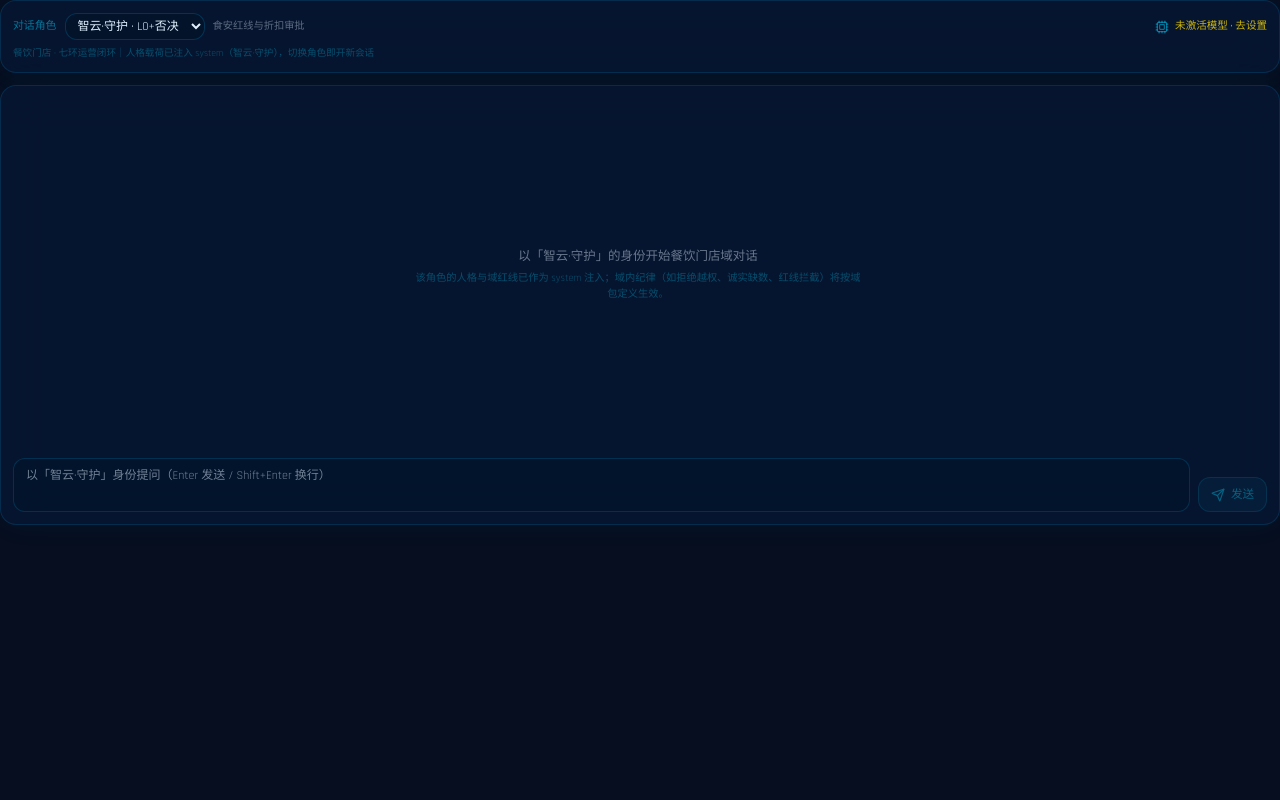
it: DomainChatPanel · 域内对话(Phase 1) › 4. 未激活模型：给出设置引导，不发起调用
Type "你好" into the text box named "对话输入".
click(602, 485); type("你好")  # box [13,458,1190,512]
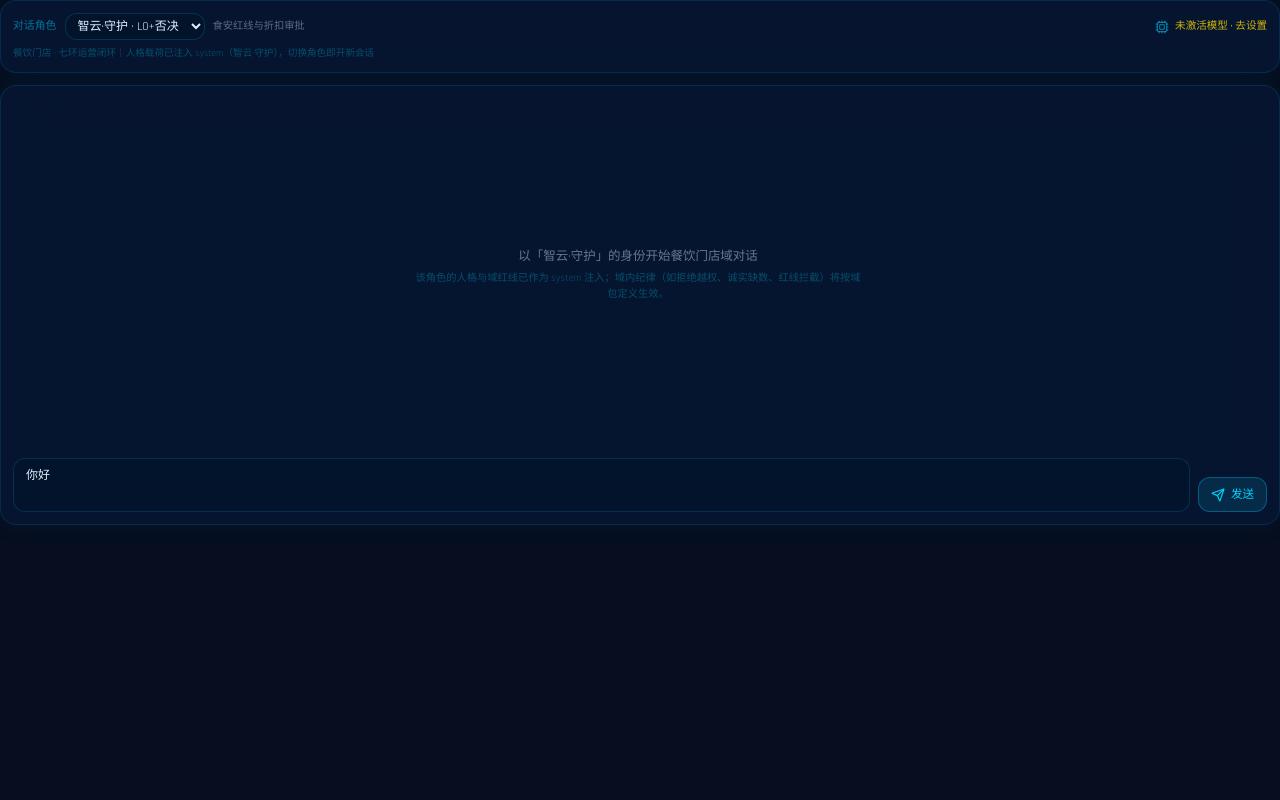
Click the button "发送".
click(1232, 495)  # box [1198,477,1267,512]
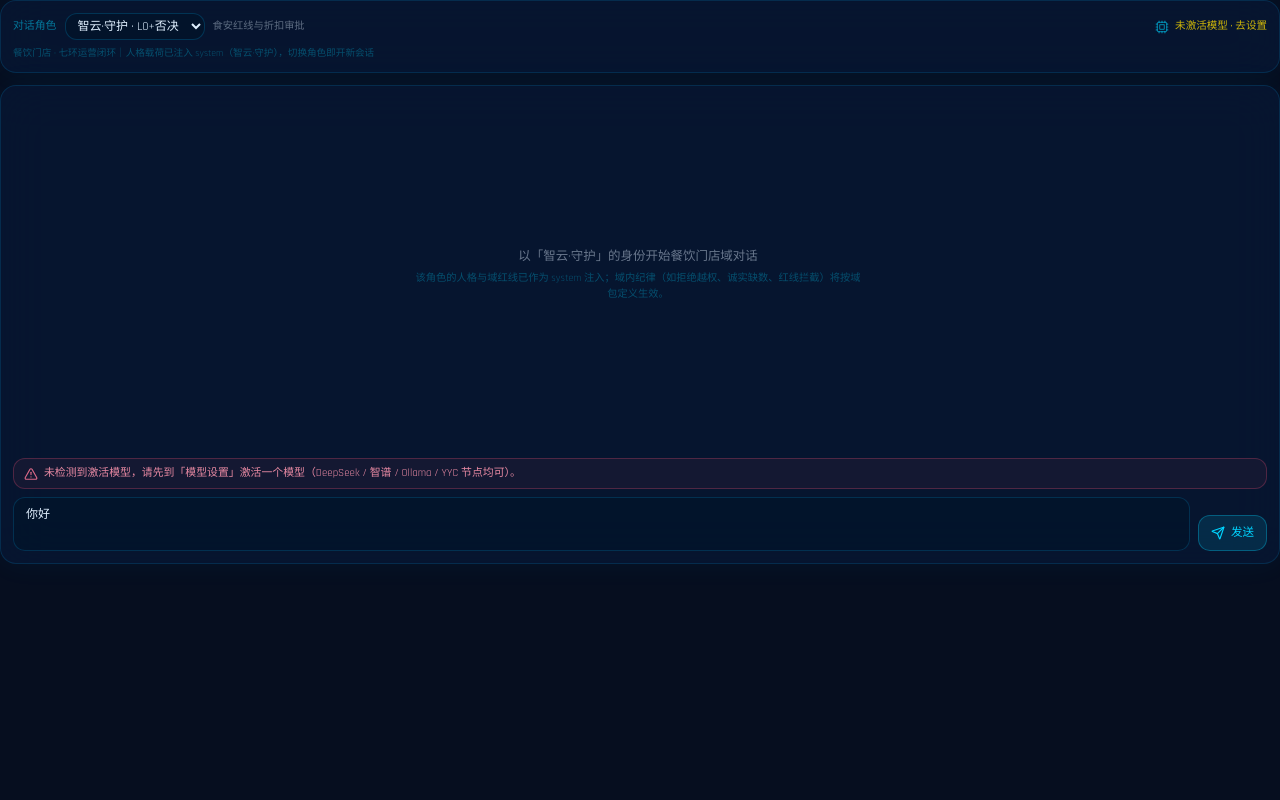
Expected: the button "未激活模型 · 去设置" is shown, [1175,19,1267,34]
Result: the text "未检测到激活模型，请先到「模型设置」激活一个模型（DeepSeek / 智谱 / Ollama / YYC 节点均可）。" is shown at [44,465,521,482]
